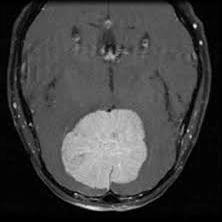Tumour-Meningioma: (78, 95, 148, 195)
